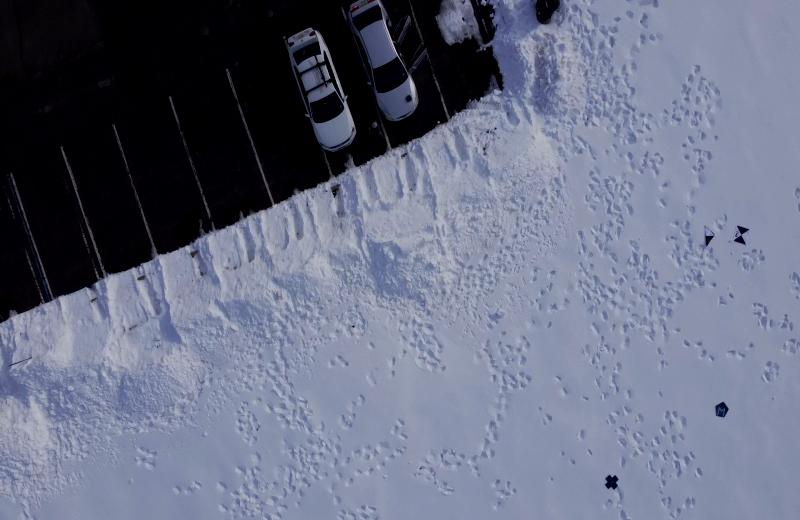Cross: (602, 473, 620, 492)
Pentagon: (713, 401, 730, 419)
